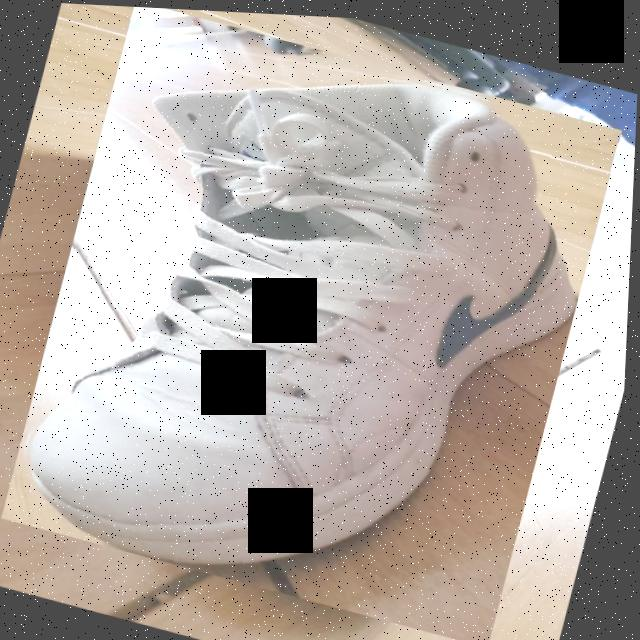shoe: (2, 1, 626, 640)
